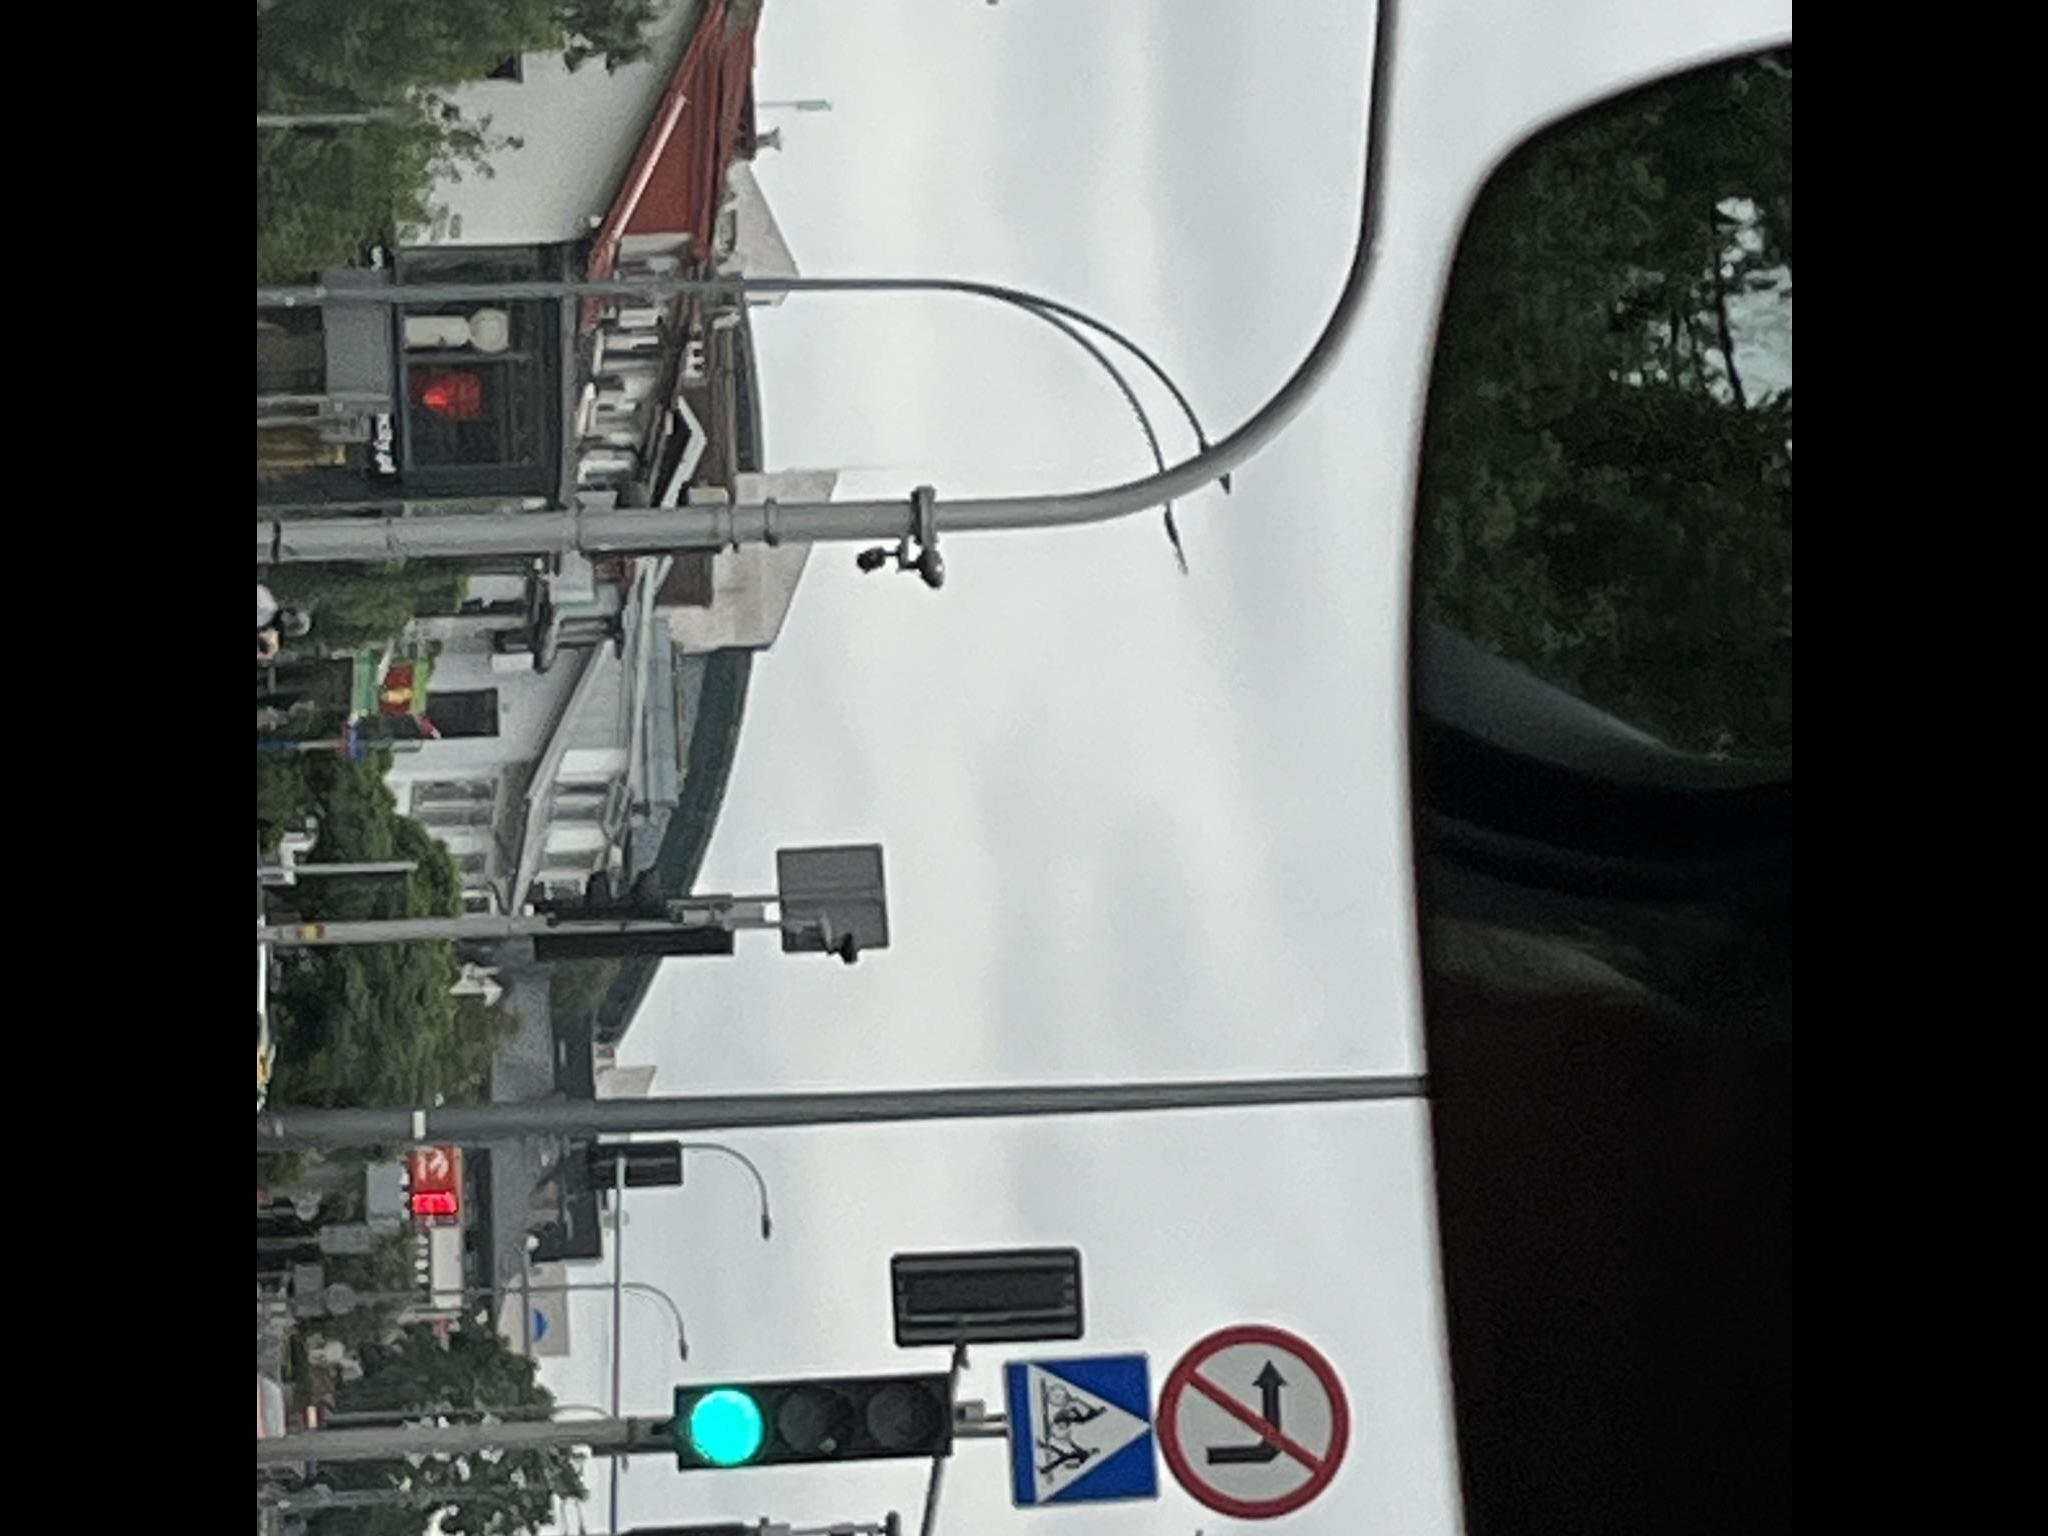information: (1000, 1352, 1158, 1512)
prohibitory: (1156, 1321, 1355, 1525)
